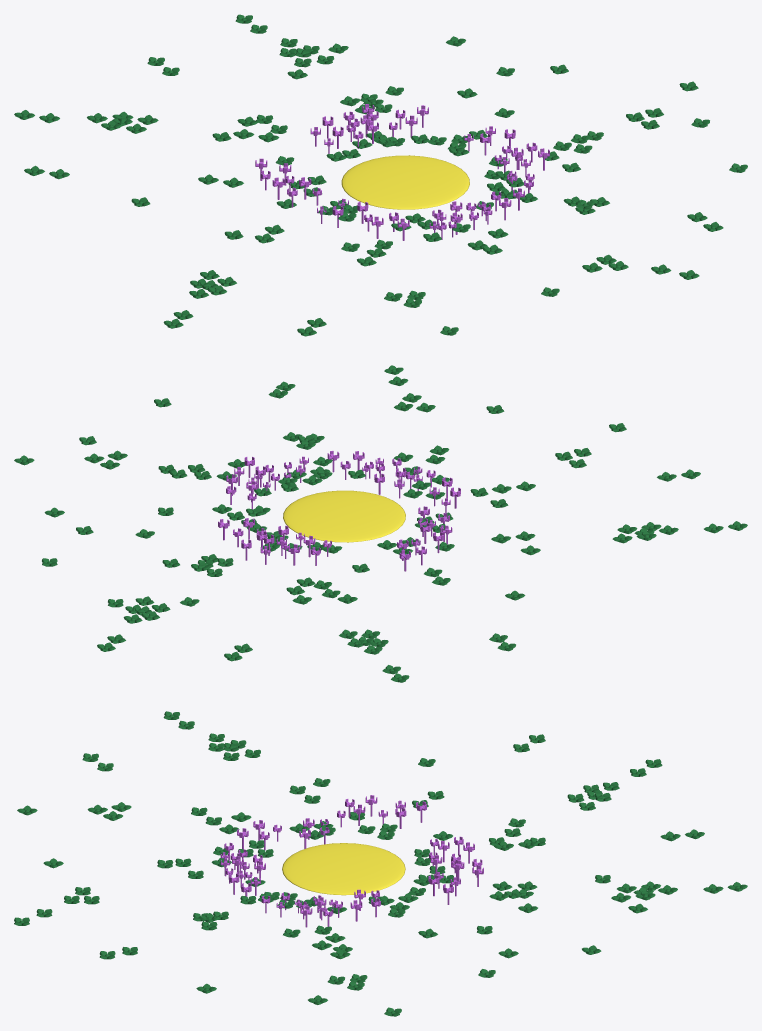
The model's file is LobbyStageFinal.fbx.
The picture shows the model from 3 angles, top to bottom: view 1: azimuth 30°, elevation 25°; view 2: azimuth 150°, elevation 25°; view 3: azimuth 270°, elevation 25°; orthographic projection. The views are drawn at different scales.
Visible parts, largest first — view 1: Flowers_2.004, Flowers_2.006, Flowers_2.003, Flowers_2.005, Flowers_2.001, Flowers_2.007; view 2: Flowers_2.004, Flowers_2.003, Flowers_2.006, Flowers_2.005, Flowers_2.001, Flowers_2.007; view 3: Flowers_2.004, Flowers_2.005, Flowers_2.006, Flowers_2.003, Flowers_2.007, Flowers_2.001.
Part boxes in pixels (x1,y1,x2,y2): Flowers_2.004: (341,155,469,209); Flowers_2.006: (147,14,723,335); Flowers_2.003: (14,69,747,279); Flowers_2.005: (131,36,698,336); Flowers_2.001: (255,105,534,239); Flowers_2.007: (310,104,549,240); Flowers_2.004: (283,490,405,542); Flowers_2.003: (79,365,515,682); Flowers_2.006: (76,376,626,661); Flowers_2.005: (14,450,747,607); Flowers_2.001: (218,451,452,571); Flowers_2.007: (226,456,460,565); Flowers_2.004: (282,843,405,895); Flowers_2.005: (82,711,647,1016); Flowers_2.006: (17,802,747,959); Flowers_2.003: (14,734,662,1004); Flowers_2.007: (220,818,483,927); Flowers_2.001: (228,795,464,920).
Size of what is drawn, in the model's own units: 15.54 by 0.7022 by 15.92.
